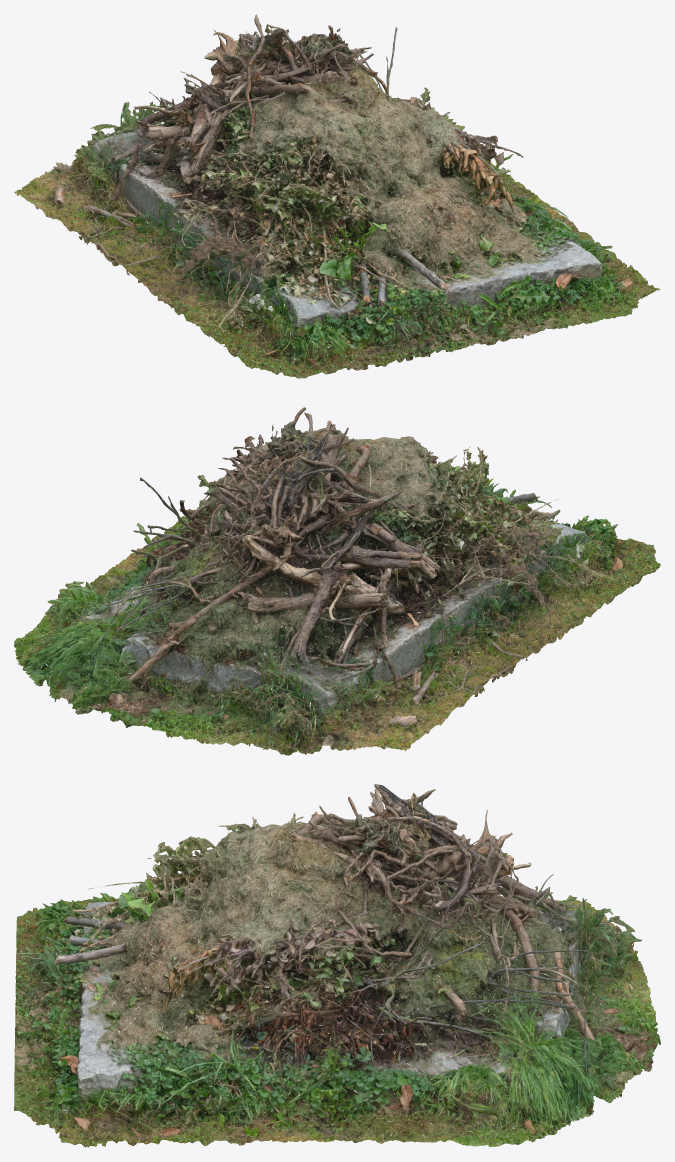
File: sf-cut-branches-grass-campfire-ee0fbd.glb
The picture shows the model from 3 angles, top to bottom: view 1: azimuth 30°, elevation 25°; view 2: azimuth 150°, elevation 25°; view 3: azimuth 270°, elevation 25°; orthographic projection. The views are drawn at different scales.
Parts seen in each view (by area): view 1: Model_material0_0, Model_material2_0, Model_material1_0; view 2: Model_material0_0, Model_material1_0, Model_material2_0; view 3: Model_material2_0, Model_material1_0, Model_material0_0.
Part boxes in pixels (bbox=[...]): Model_material0_0: bbox=[14, 27, 660, 378]; Model_material2_0: bbox=[17, 14, 652, 376]; Model_material1_0: bbox=[26, 24, 648, 375]; Model_material0_0: bbox=[14, 420, 656, 750]; Model_material1_0: bbox=[17, 413, 660, 755]; Model_material2_0: bbox=[22, 407, 656, 754]; Model_material2_0: bbox=[14, 789, 659, 1147]; Model_material1_0: bbox=[14, 784, 660, 1147]; Model_material0_0: bbox=[14, 785, 658, 1146].
Size of the model in its own units: 7.14 by 3.75 by 8.87.
Materials: 3 (3 with a texture image).
